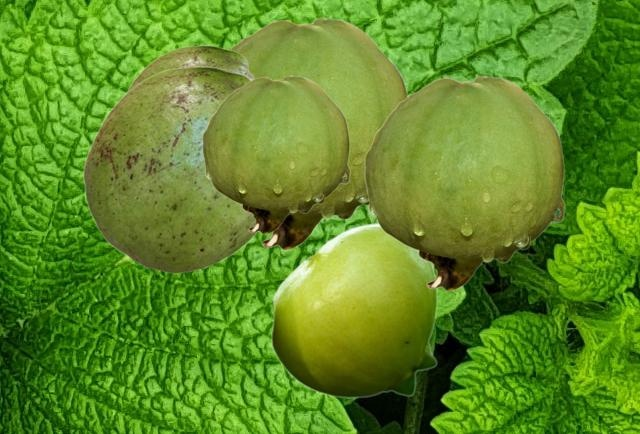guava: (364, 75, 564, 290), (230, 17, 408, 249), (82, 66, 258, 272), (270, 222, 437, 397), (202, 75, 349, 233), (126, 45, 254, 91)
